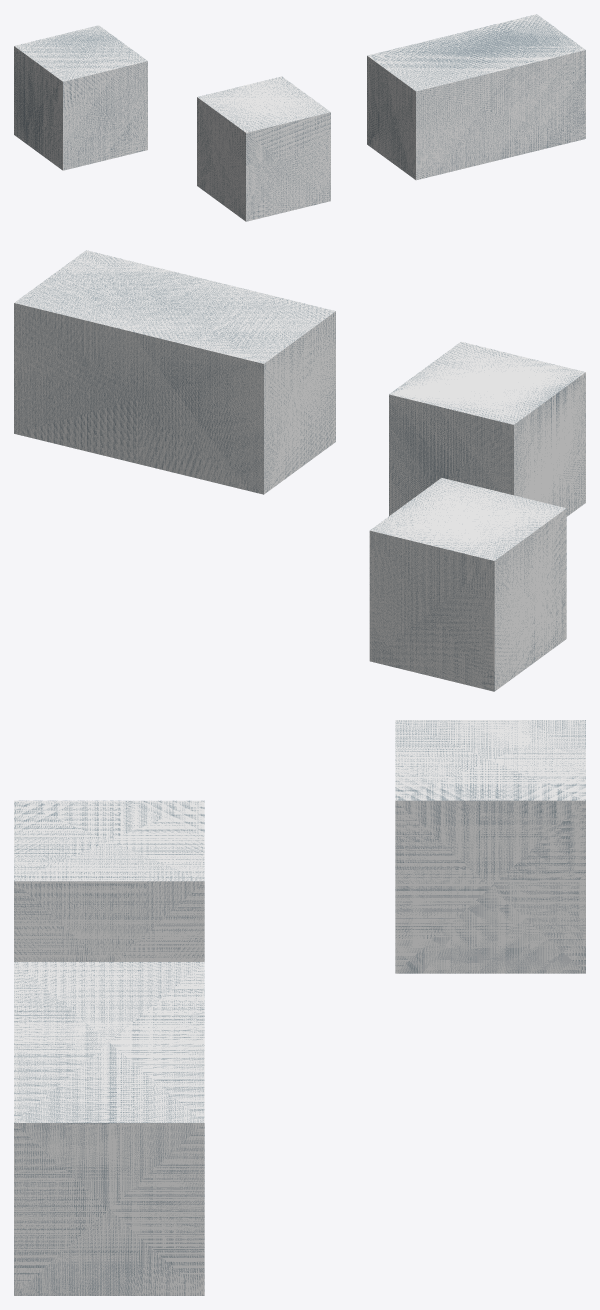
The model's file is instance-scaled.dae.
3 views of the same model, one above another, from view 1: azimuth 30°, elevation 25°; view 2: azimuth 150°, elevation 25°; view 3: azimuth 270°, elevation 25° (orthographic). The views are drawn at different scales.
Parts seen in each view (by area): view 1: Box (×3); view 2: Box (×3); view 3: Box (×3).
Boxes of the visible parts, box(x1,y1,x2,y2) form: Box (×3): box(14, 14, 585, 221); Box (×3): box(14, 250, 585, 691); Box (×3): box(14, 720, 585, 1295).
Bounding box in the file's own units: 197 × 118 × 39.37.
